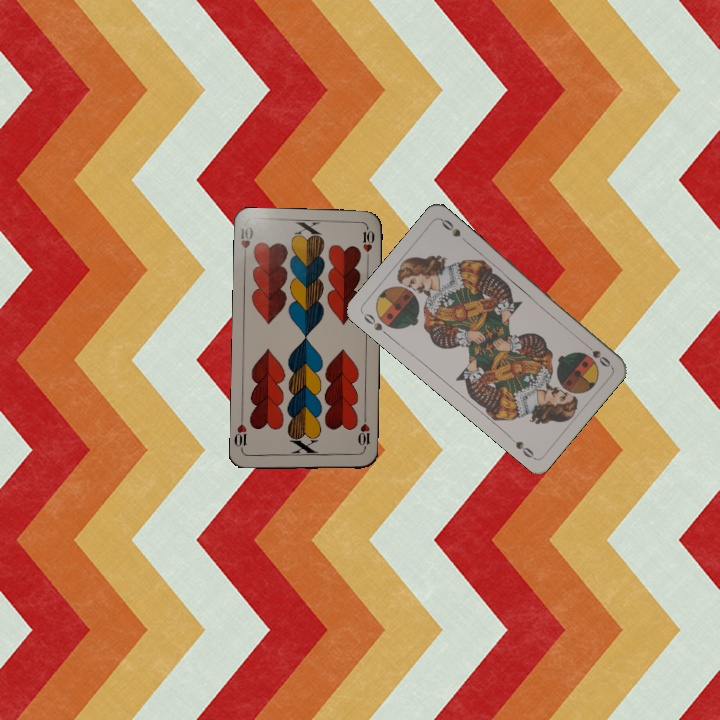H10: (354, 413, 373, 454), (237, 222, 256, 263)
SO: (580, 339, 614, 370), (359, 309, 392, 340)
